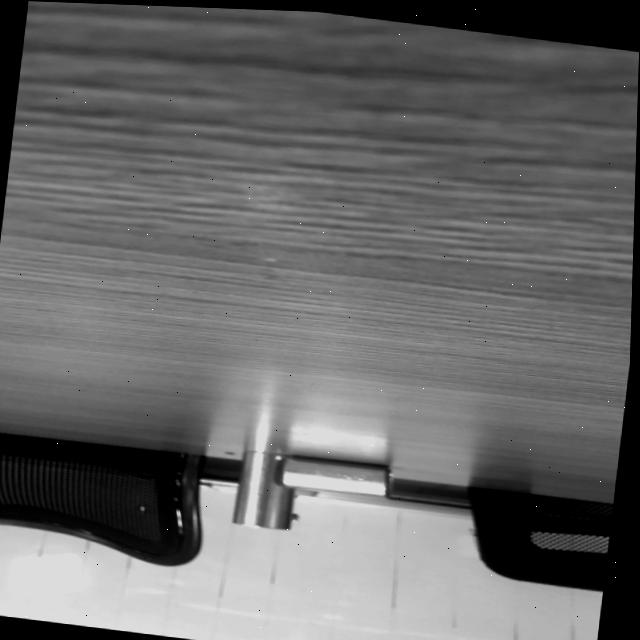Co_Lon: (230, 447, 303, 532)
Co_Nho: (276, 453, 390, 495)
